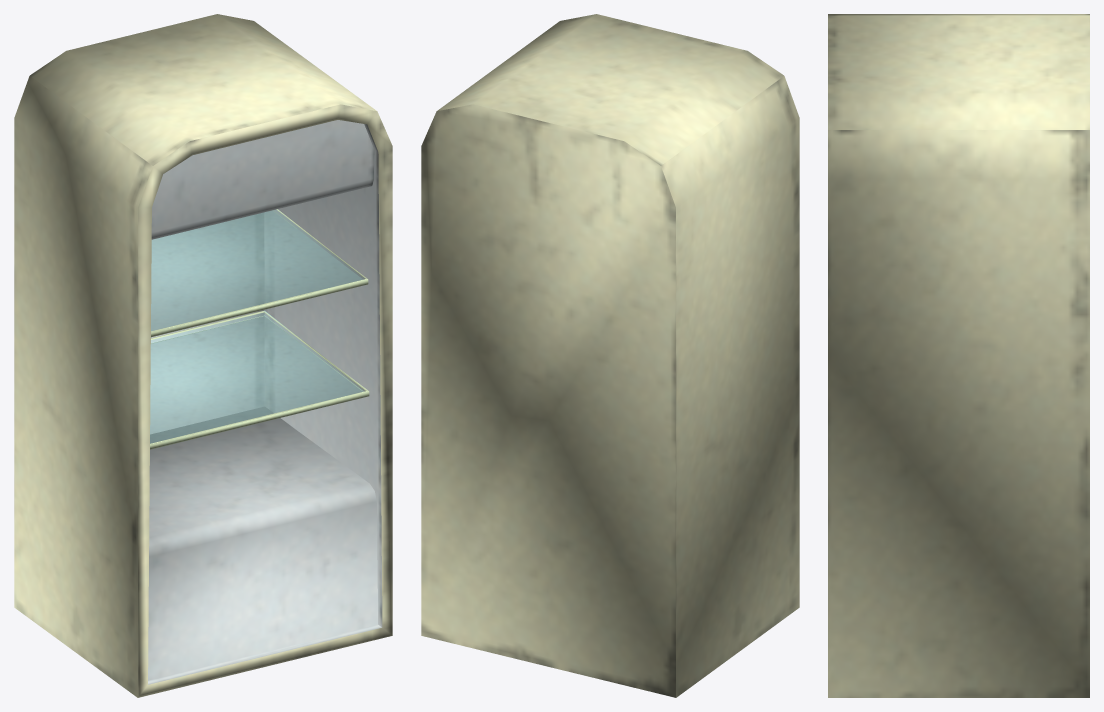
Rendered from fridge_close.glb.
3 views of the same model, side by side, from view 1: azimuth 30°, elevation 25°; view 2: azimuth 150°, elevation 25°; view 3: azimuth 270°, elevation 25° (orthographic). The views are drawn at different scales.
Parts seen in each view (by area): view 1: fridge close; view 2: fridge close; view 3: fridge close.
Boxes of the visible parts, x1,y1,x2,y2 form: fridge close: [14, 14, 392, 697]; fridge close: [421, 14, 799, 697]; fridge close: [828, 14, 1089, 697].
Size of the model in its own units: 0.9146 by 1.87 by 0.7676.
4 materials, 4 textured.
